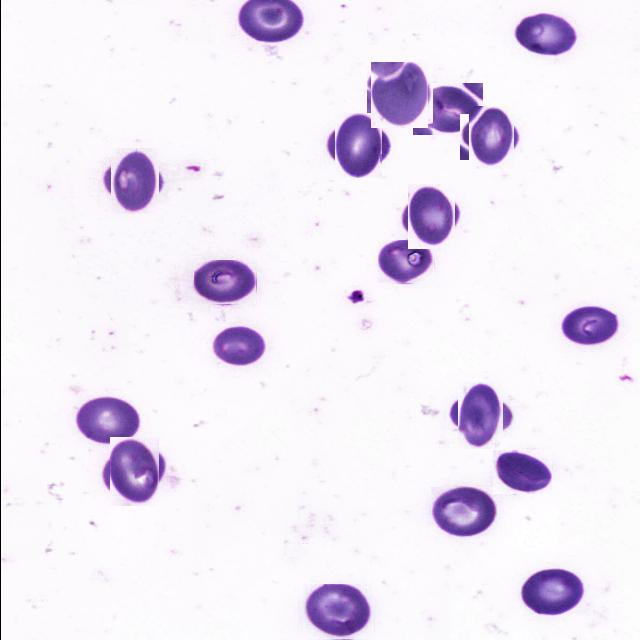red blood cell: (302, 584, 374, 640), (368, 64, 430, 126), (71, 394, 142, 446), (412, 83, 482, 135), (517, 566, 586, 618), (104, 441, 163, 501), (104, 152, 162, 210), (452, 386, 508, 444), (430, 487, 496, 536), (329, 118, 386, 174), (402, 188, 458, 245), (511, 12, 580, 58), (463, 110, 518, 164), (193, 260, 256, 305), (207, 324, 270, 368), (492, 449, 551, 494), (560, 305, 619, 348), (377, 240, 434, 284)
